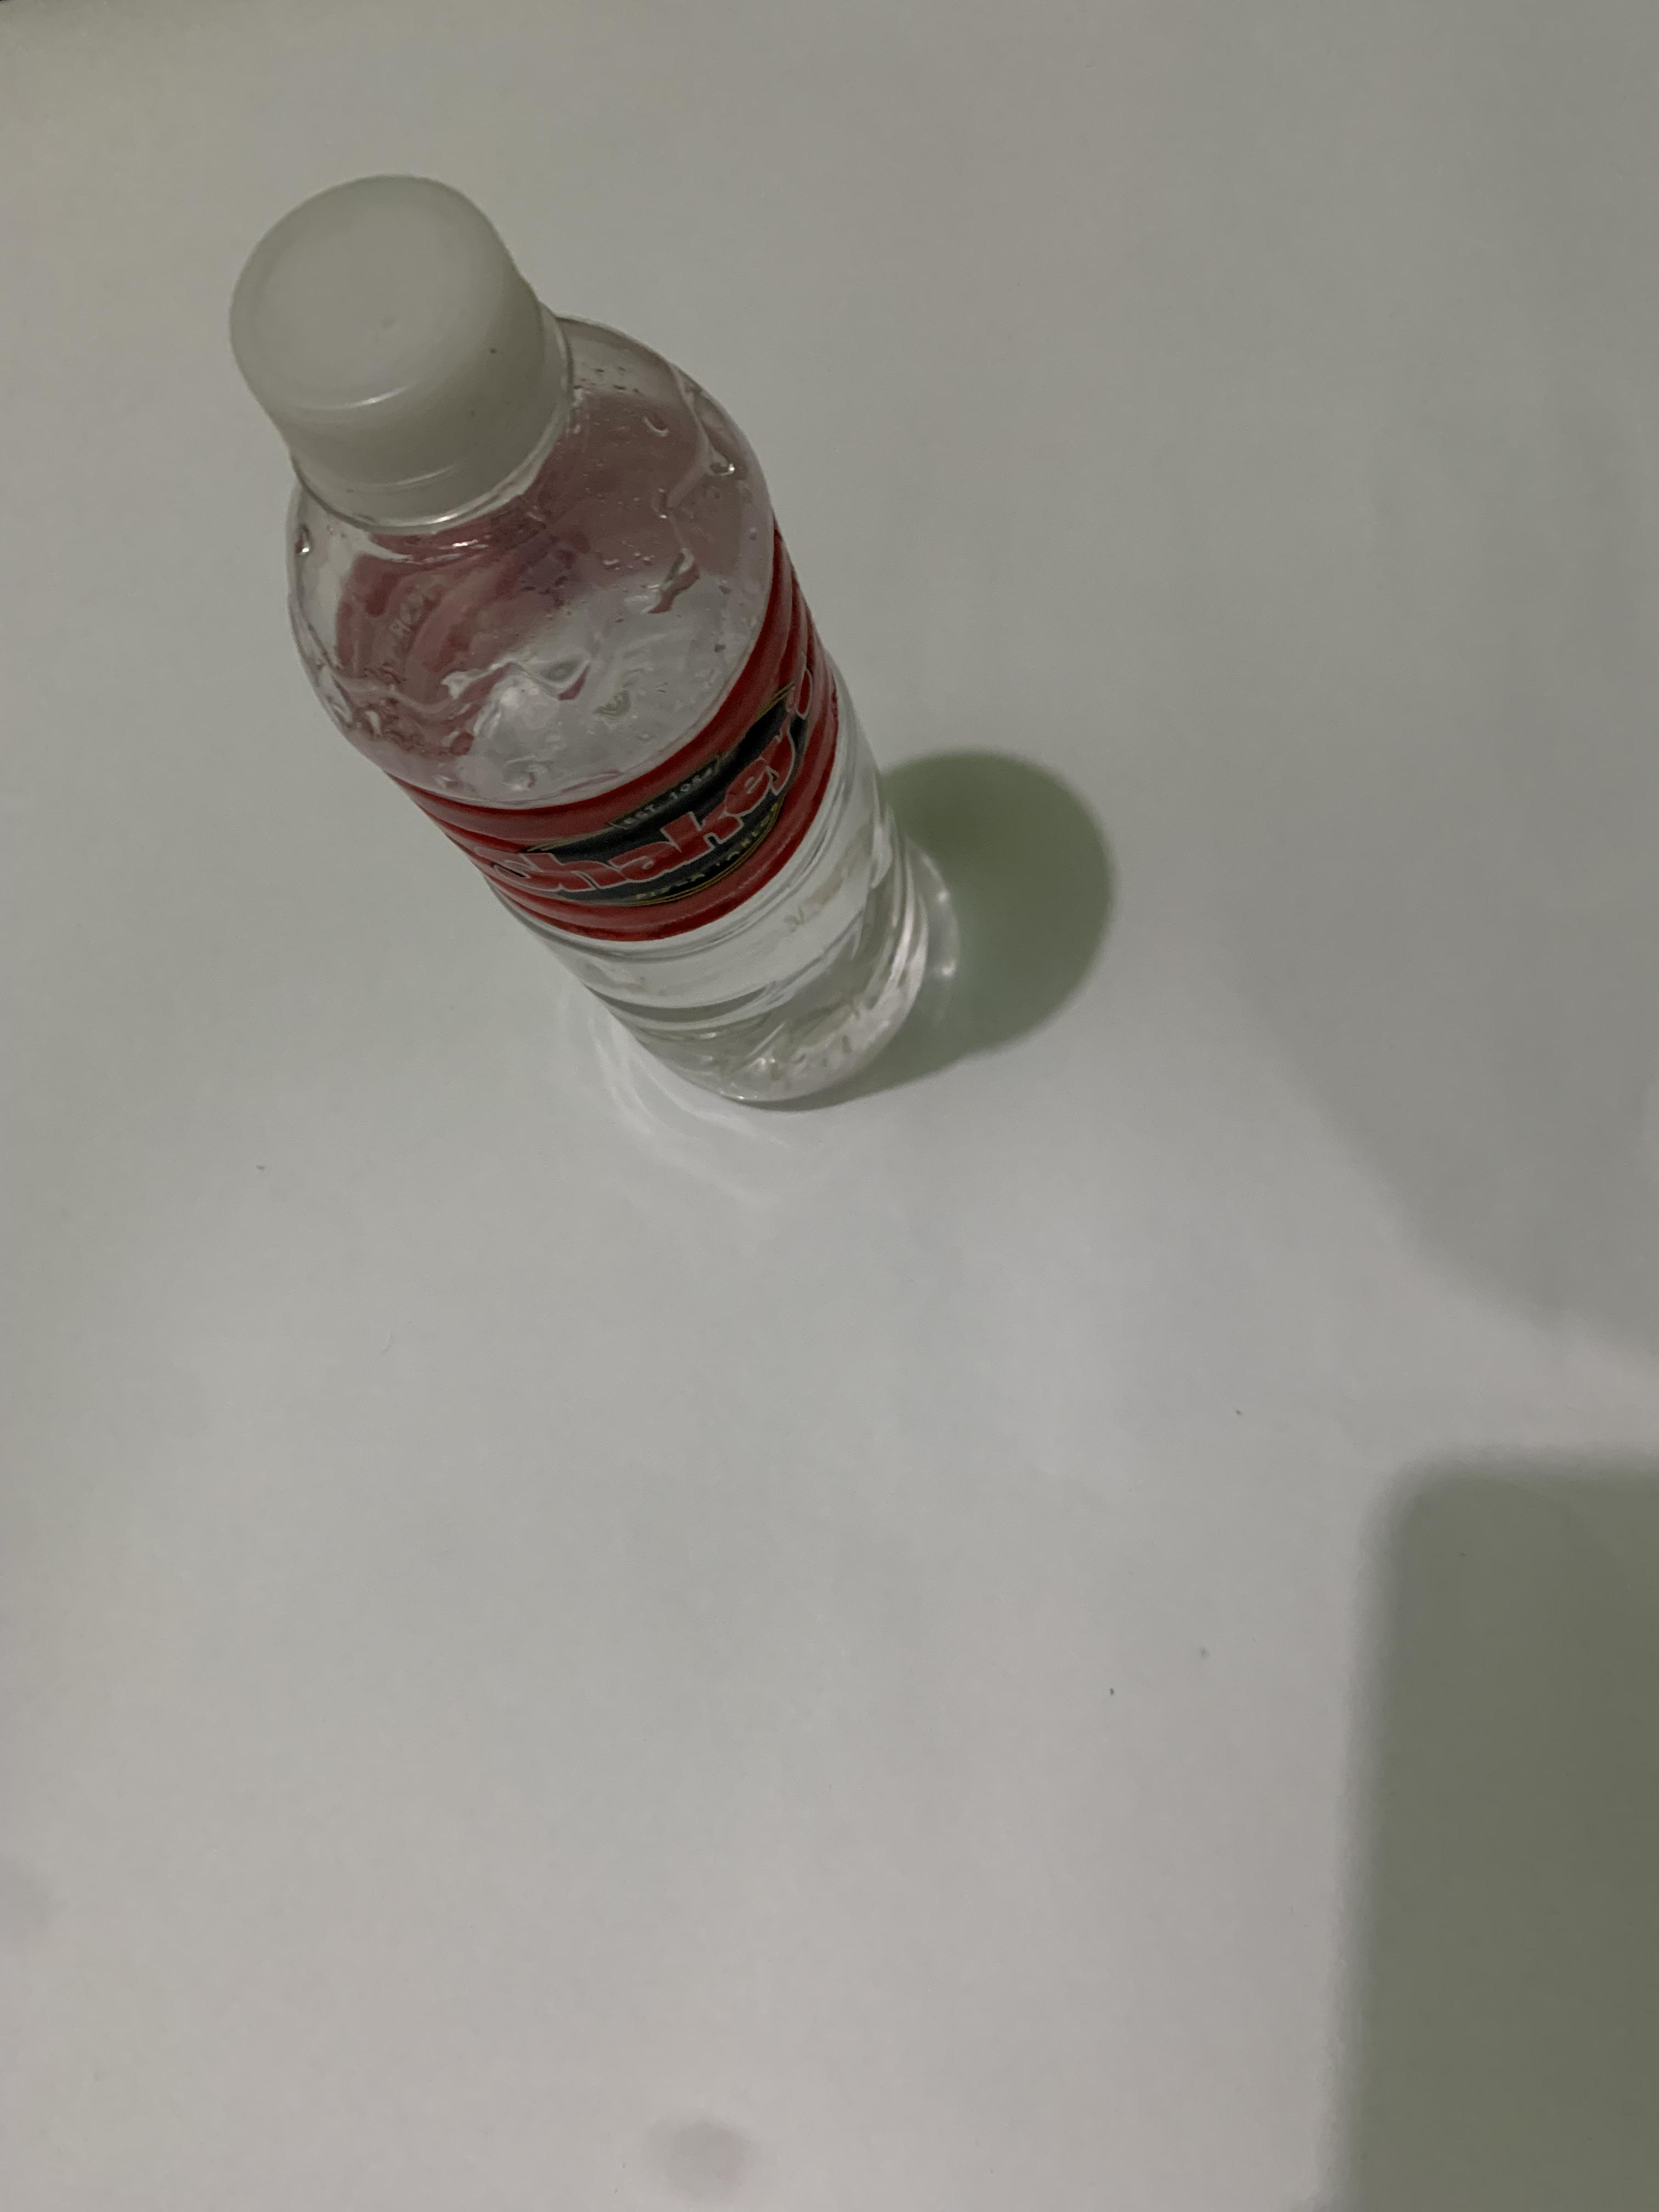bottle: (129, 164, 870, 1125)
